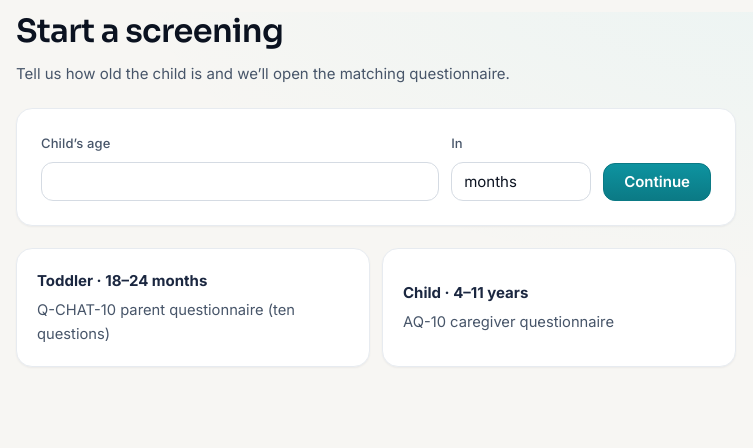
Test: age handling › the start page explains an unsupported age instead of opening a questionnaire
The width and height of the screenshot is (753, 448).
Type "30" into the field labelled "Child’s age" at {"x": 240, "y": 182}, box x1=41 y1=162 x2=439 y2=201
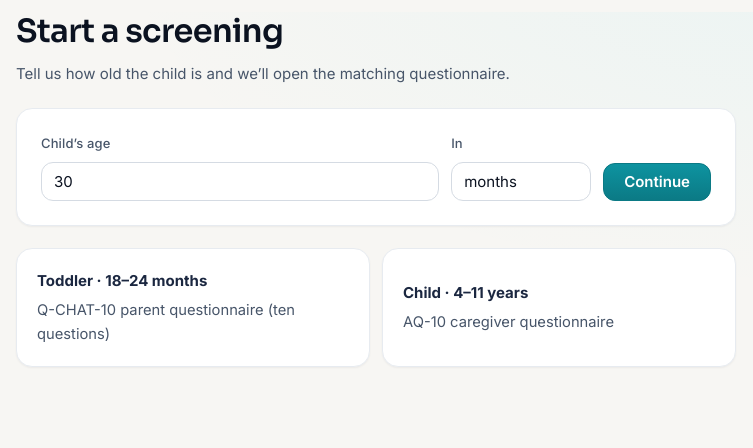
Click the button "Continue" at {"x": 657, "y": 182}, box x1=603 y1=163 x2=711 y2=201
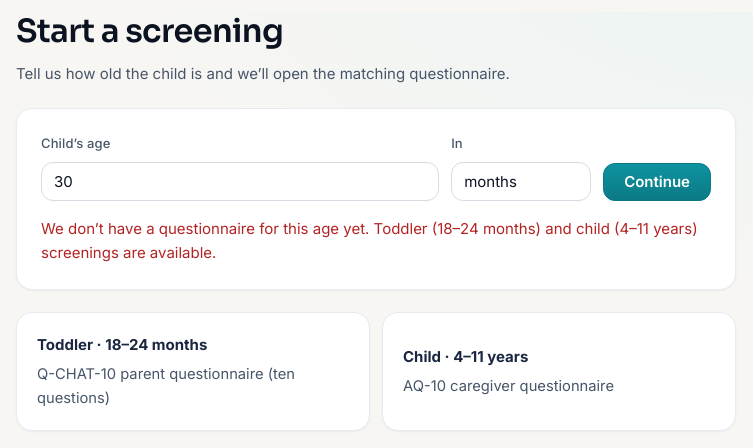
Result: the message shows "don’t have a questionnaire for this age" at x1=41 y1=219 x2=698 y2=262
